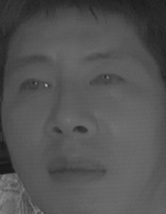eye: (88, 69, 126, 94), (15, 75, 53, 98)
mouth: (46, 152, 106, 189)
